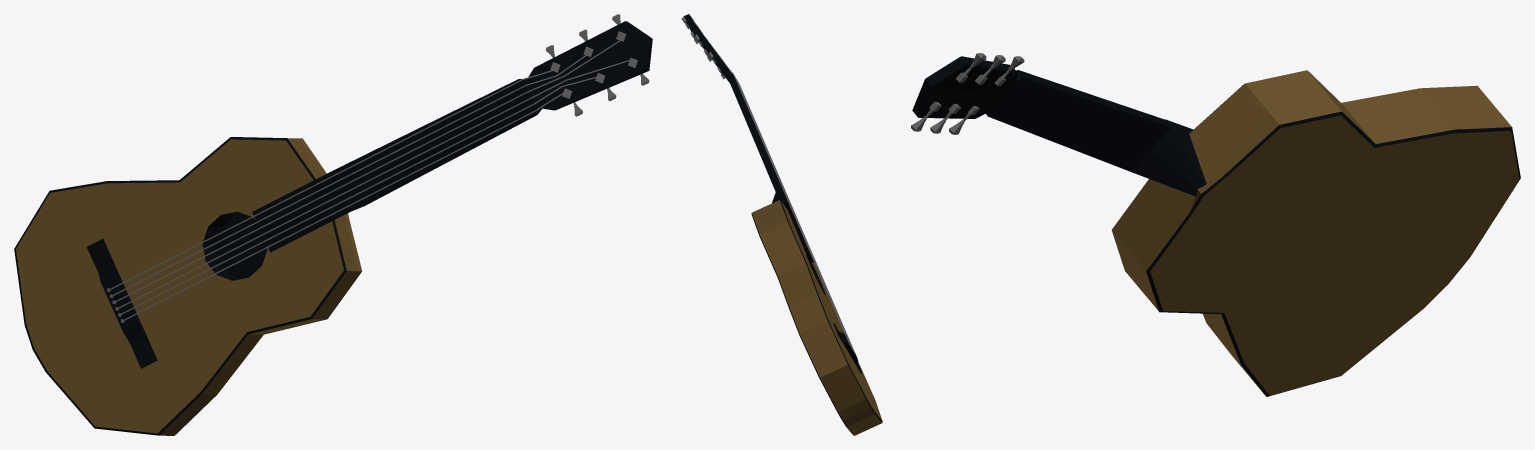
The model's file is GuitarA.glb.
The picture shows the model from 3 angles, left to right: view 1: azimuth 30°, elevation 25°; view 2: azimuth 150°, elevation 25°; view 3: azimuth 270°, elevation 25°; orthographic projection. The views are drawn at different scales.
Visible parts, largest first — view 1: Guitar1; view 2: Guitar1; view 3: Guitar1.
Part boxes in pixels (box(x1,y1,x2,y2)): Guitar1: box(14, 14, 652, 435); Guitar1: box(681, 14, 882, 435); Guitar1: box(911, 53, 1520, 396).
Size of the model in its own units: 1.52 by 1.36 by 1.3.
